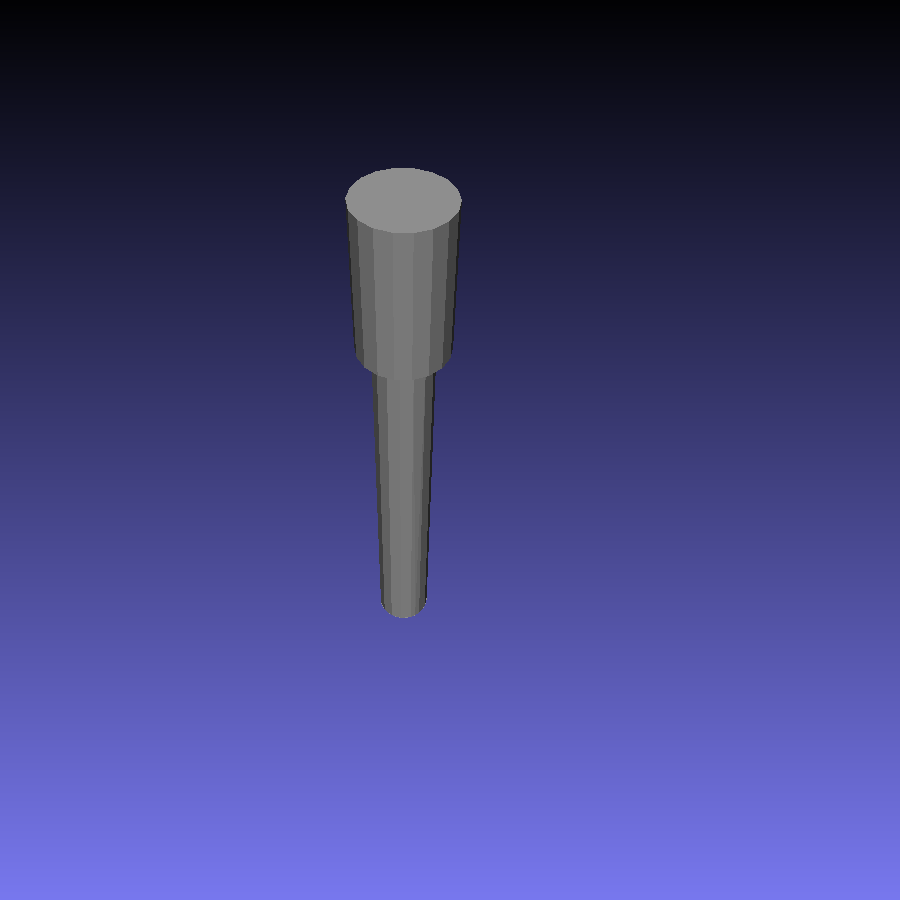cargo_g: (343, 170, 460, 619)
